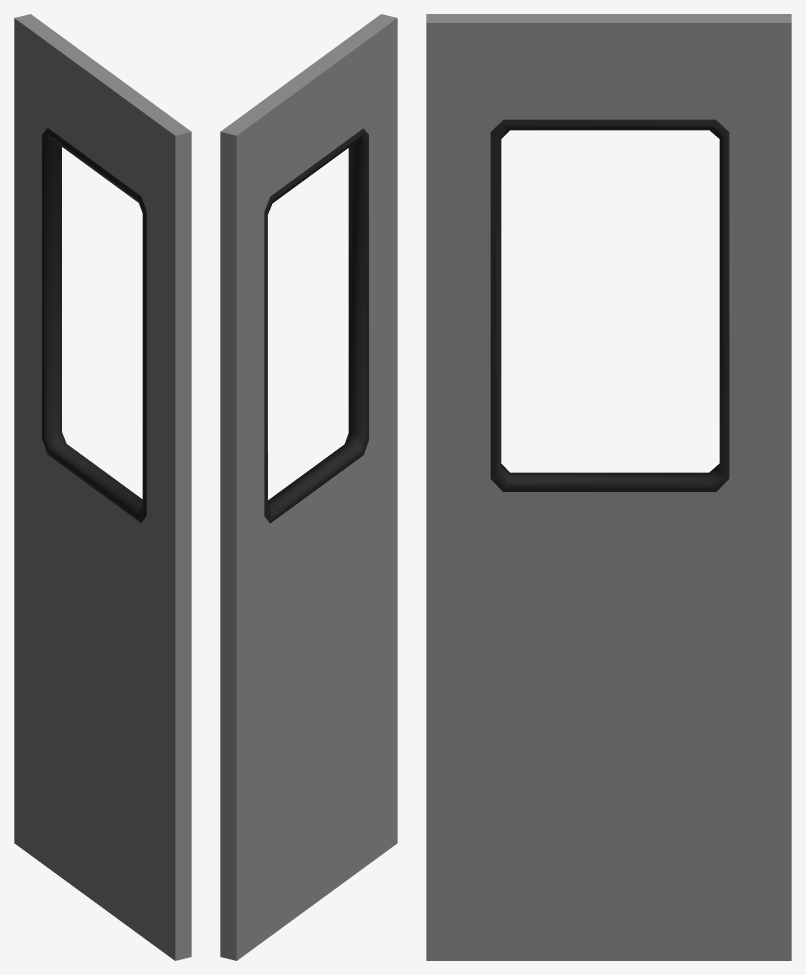
The model's file is SW_VEH_Train_Door_Side.fbx.
The picture shows the model from 3 angles, left to right: view 1: azimuth 30°, elevation 25°; view 2: azimuth 150°, elevation 25°; view 3: azimuth 270°, elevation 25°; orthographic projection. The views are drawn at different scales.
Parts seen in each view (by area): view 1: SW_VEH_Train_Door_Side; view 2: SW_VEH_Train_Door_Side; view 3: SW_VEH_Train_Door_Side.
Part boxes in pixels (<box>): SW_VEH_Train_Door_Side: <box>14,14,191,960</box>; SW_VEH_Train_Door_Side: <box>220,14,397,960</box>; SW_VEH_Train_Door_Side: <box>426,14,791,960</box>.
Bounding box in the file's own units: 0.0473 × 1.95 × 0.6886.
